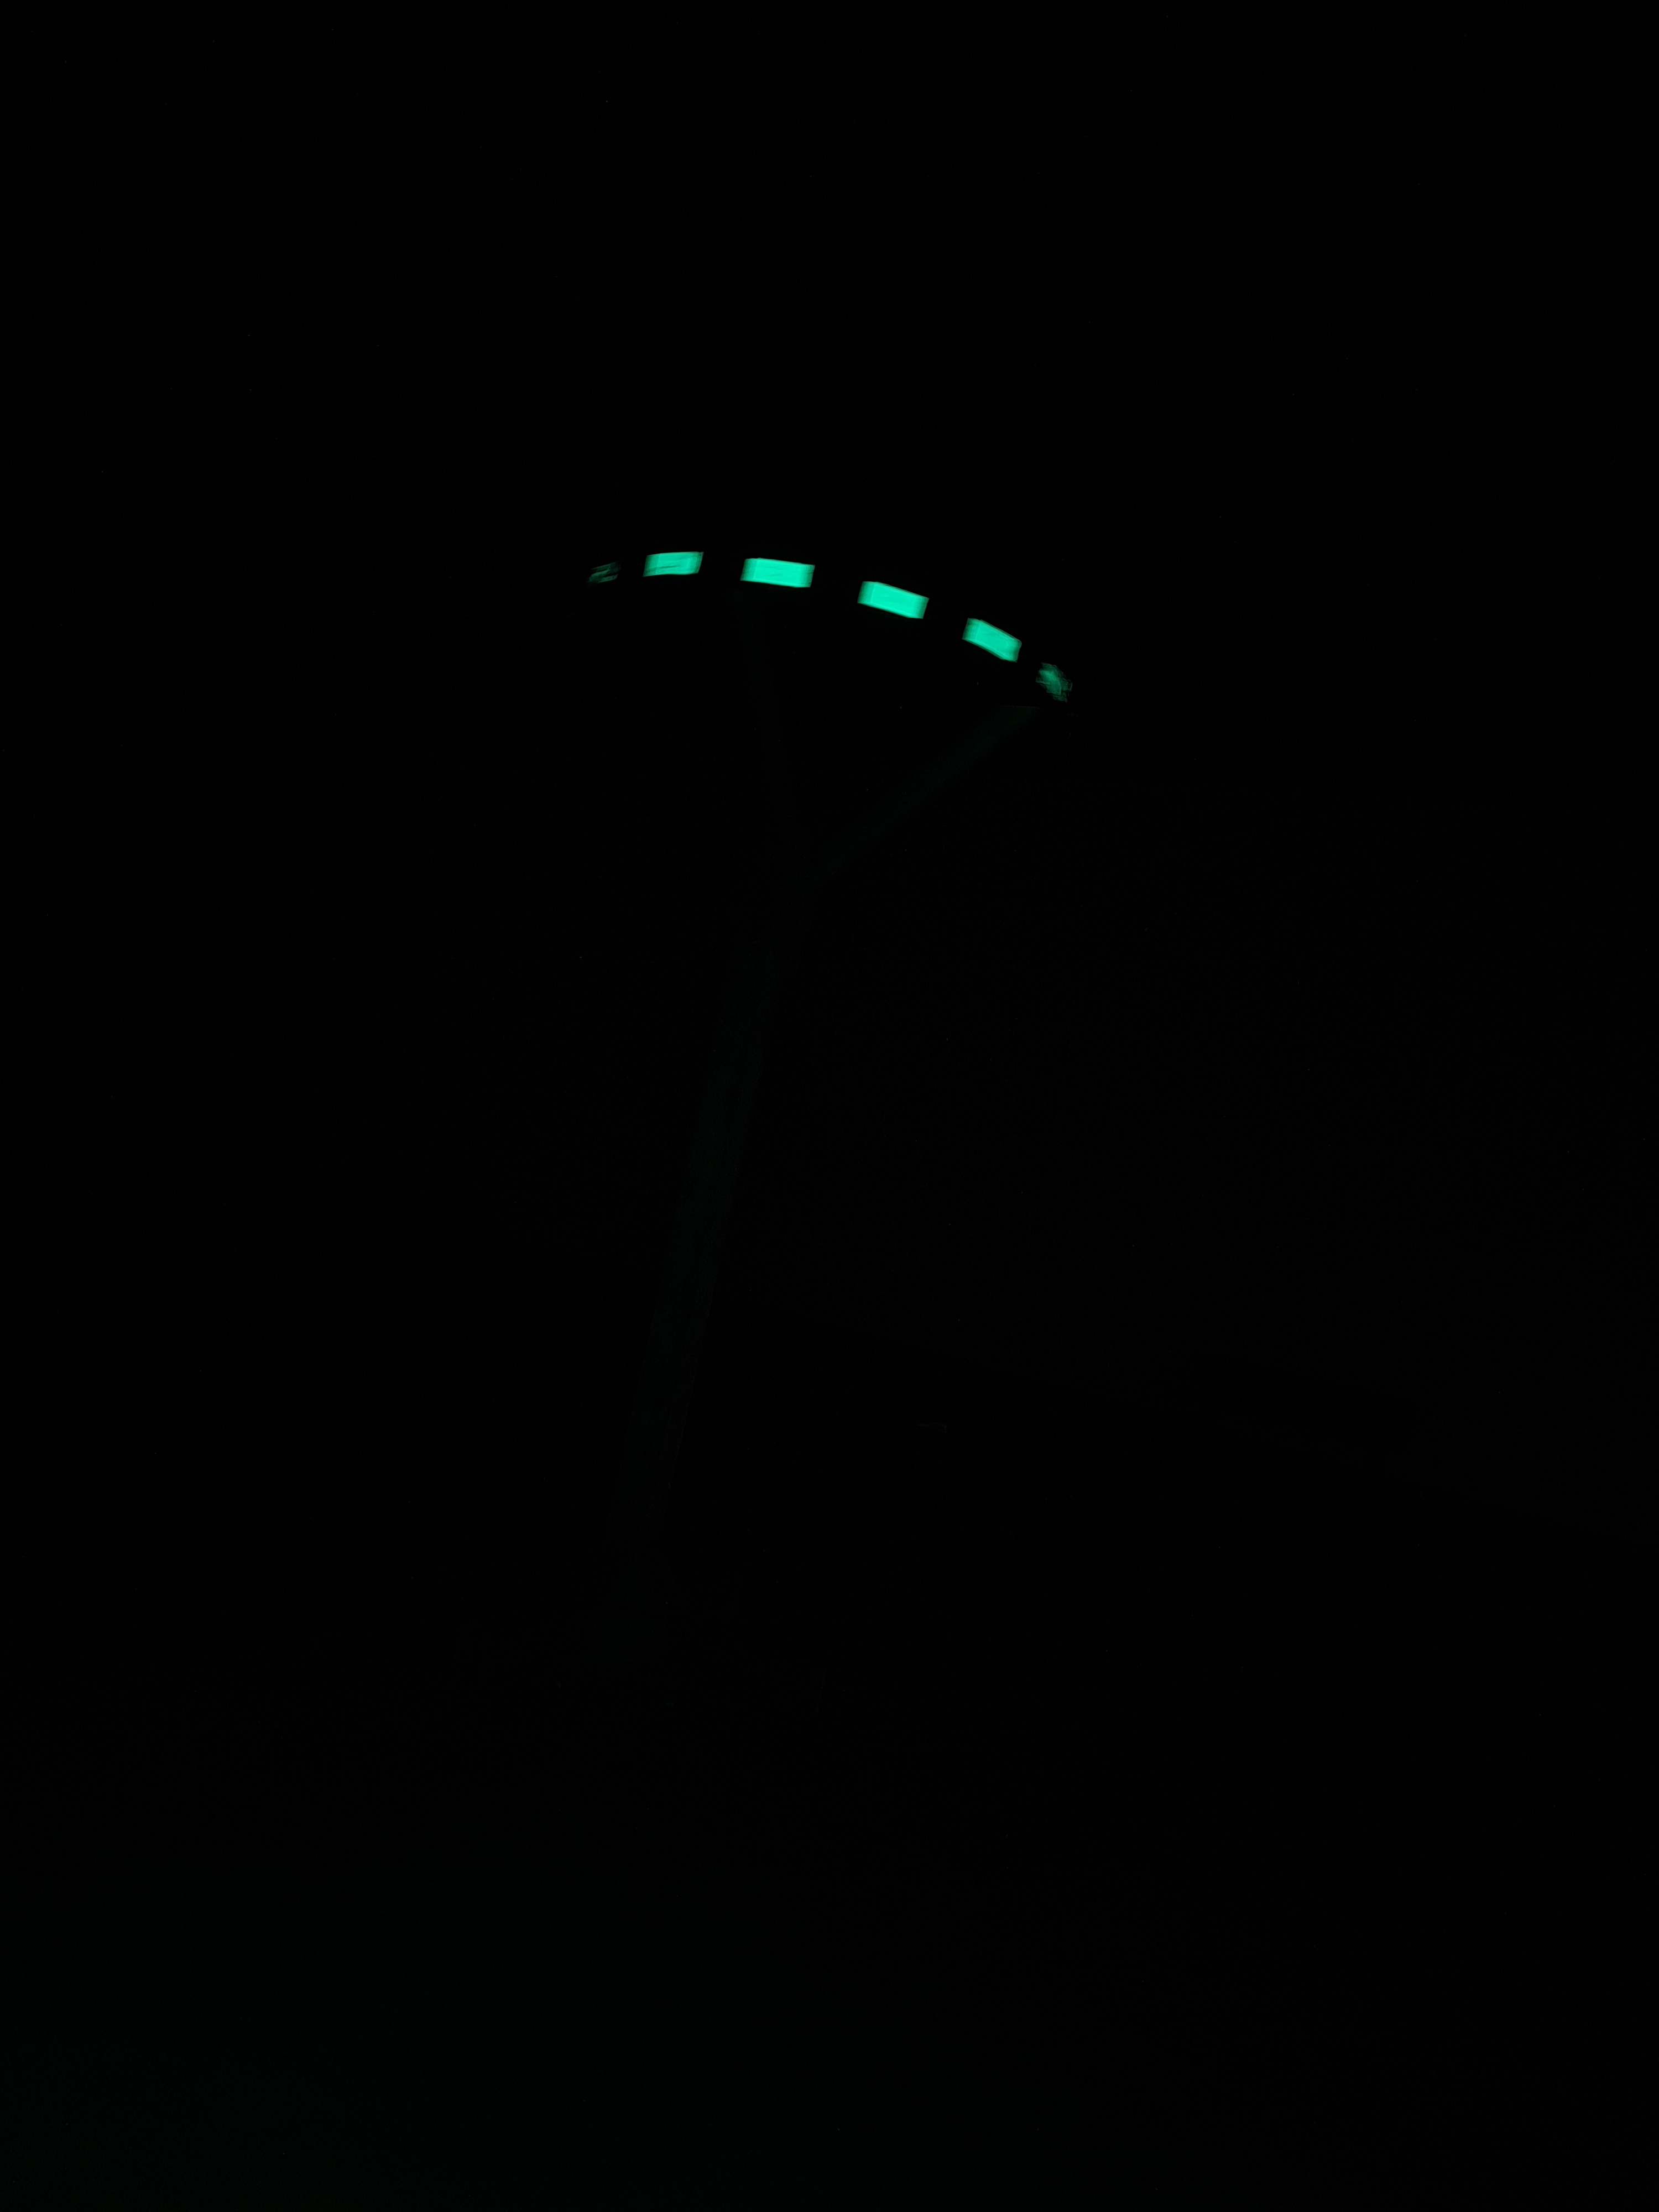hoop: (544, 526, 1086, 730)
